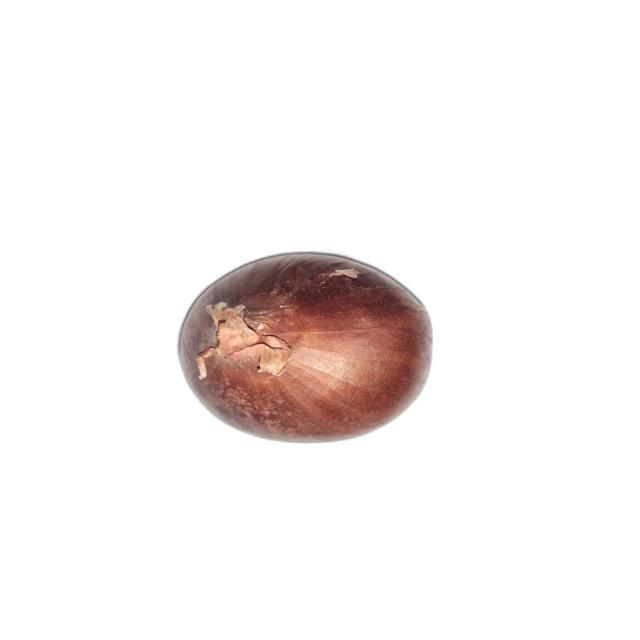onion: (178, 251, 434, 444)
